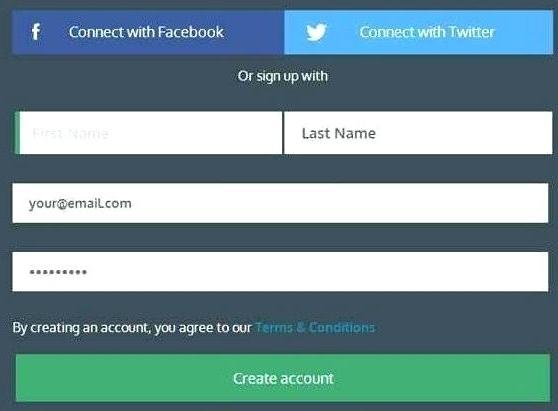button: (14, 352, 552, 404), (8, 8, 287, 58), (281, 8, 555, 57)
field: (10, 251, 550, 294), (10, 182, 550, 224), (12, 109, 285, 157), (281, 110, 554, 156)
